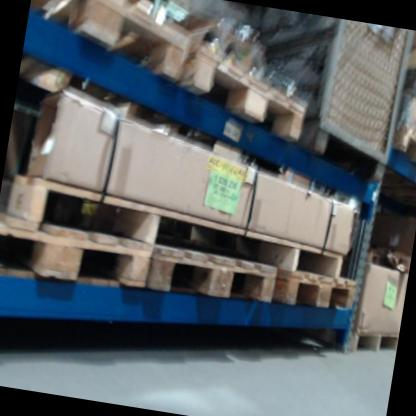pallet: (21, 0, 194, 85), (173, 44, 312, 144), (0, 213, 155, 297), (145, 239, 279, 309), (271, 266, 357, 322), (350, 324, 399, 361), (389, 125, 416, 164), (404, 43, 416, 80)
stillage: (220, 6, 413, 185)
